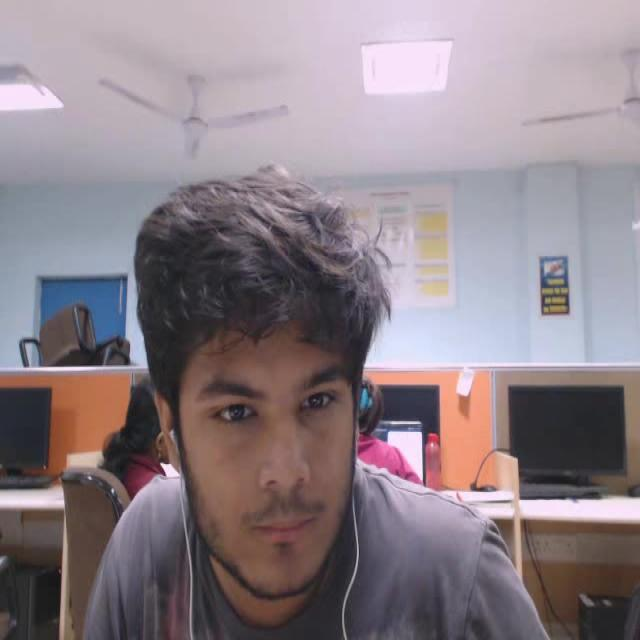Engaged: (121, 157, 420, 621)
